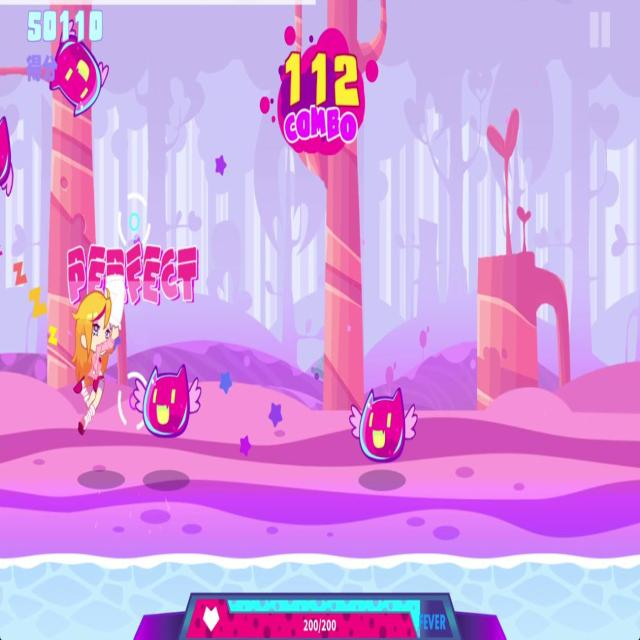mao: (50, 19, 111, 119), (132, 359, 202, 441), (352, 383, 418, 462)
